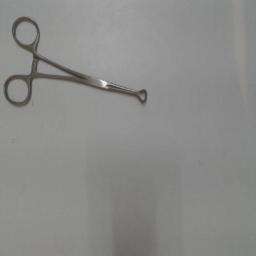Babcock Tissue Forceps: (2, 12, 150, 110)
